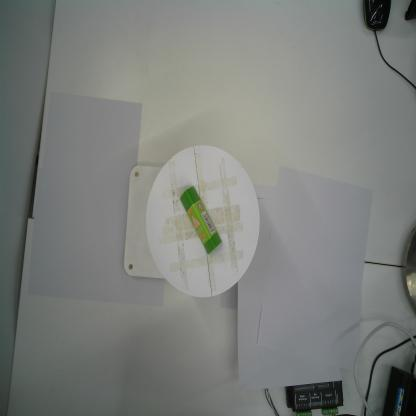Stationery: (178, 185, 223, 257)
